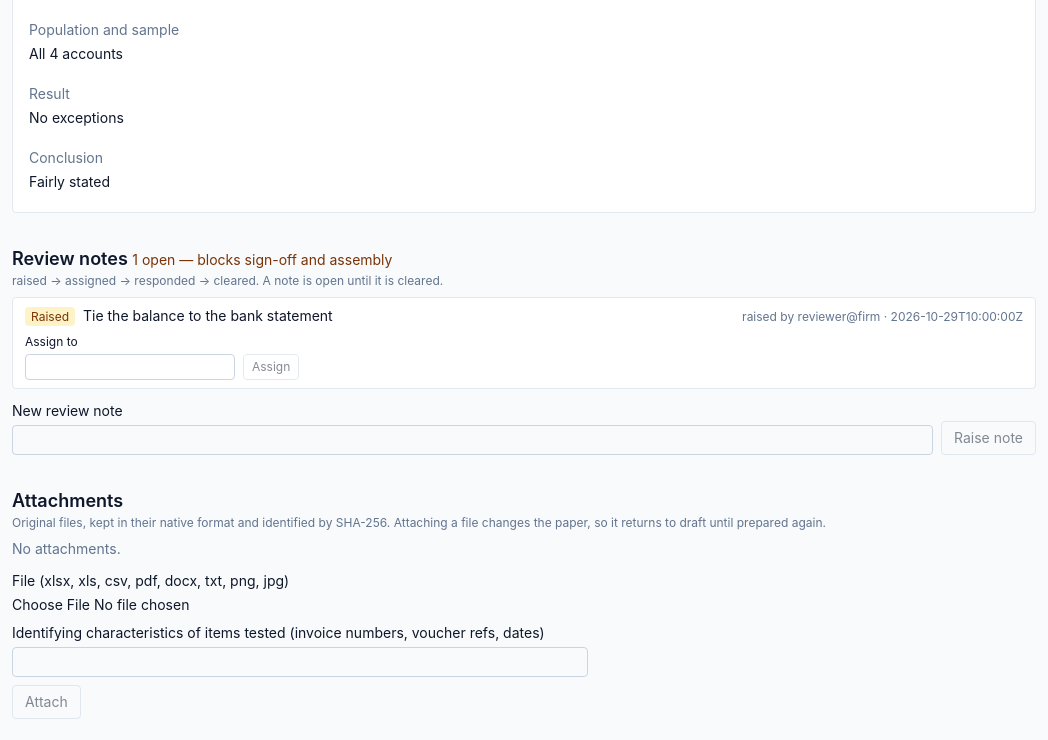
Scenario: each note offers only its next step: assign, respond, clear
(page scrolled)
Type "preparer@firm" into the field labelled "Assign to" at (130, 367), box top-left (25, 354), bottom-right (235, 380)
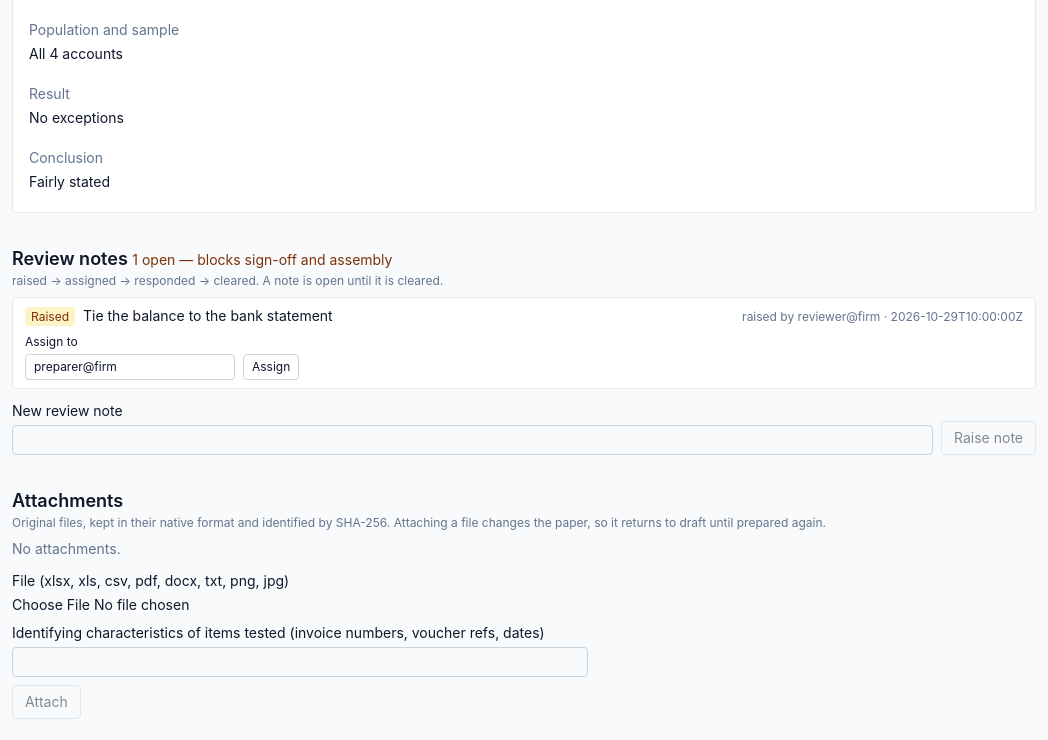
Click the button "Assign" at (271, 367), box top-left (243, 354), bottom-right (299, 380)
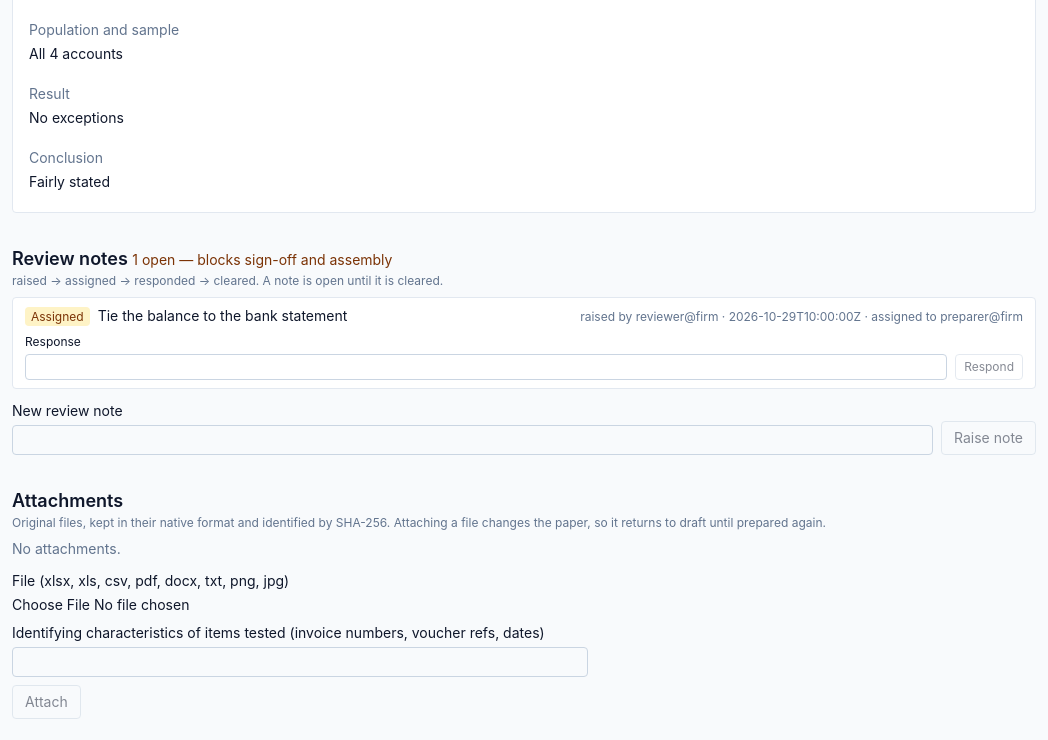
Check: the text "assigned to preparer@firm" is shown, box top-left (861, 309), bottom-right (1023, 324)
Type "Reconciled" into the field labelled "Response" at (486, 367), box top-left (25, 354), bottom-right (947, 380)
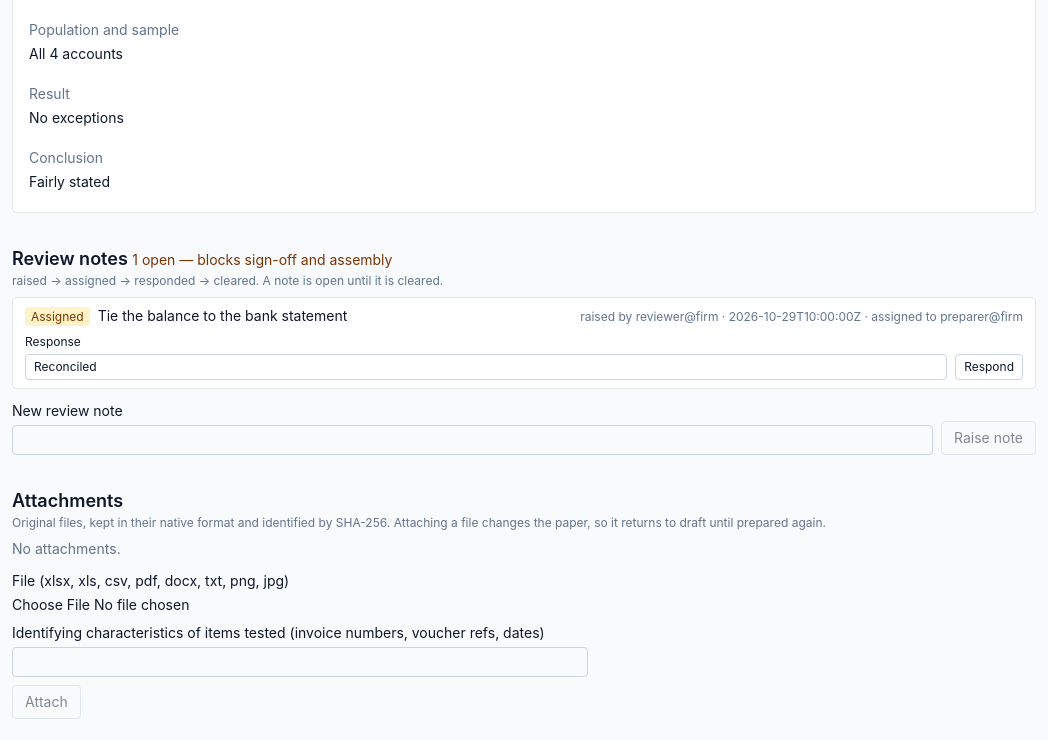
Click the button "Respond" at (989, 367), box top-left (955, 354), bottom-right (1023, 380)
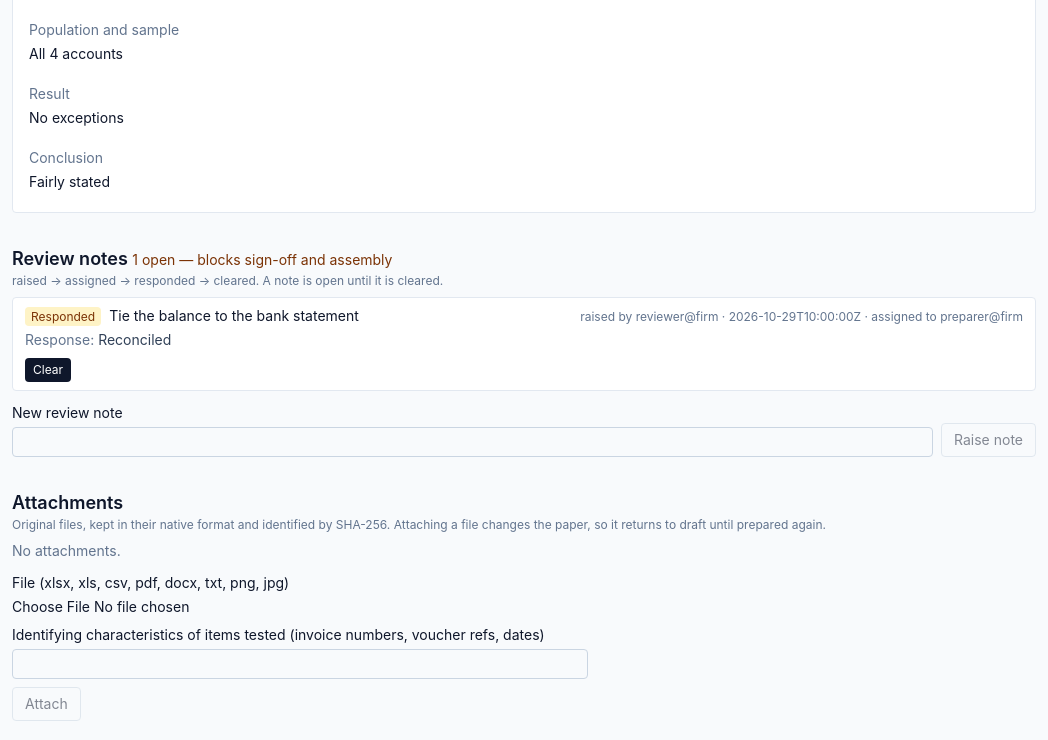
Check: the text "Response: Reconciled" is shown, box top-left (25, 331), bottom-right (171, 348)
Click the button "Clear" at (48, 370), box top-left (25, 358), bottom-right (71, 382)
(page scrolled)
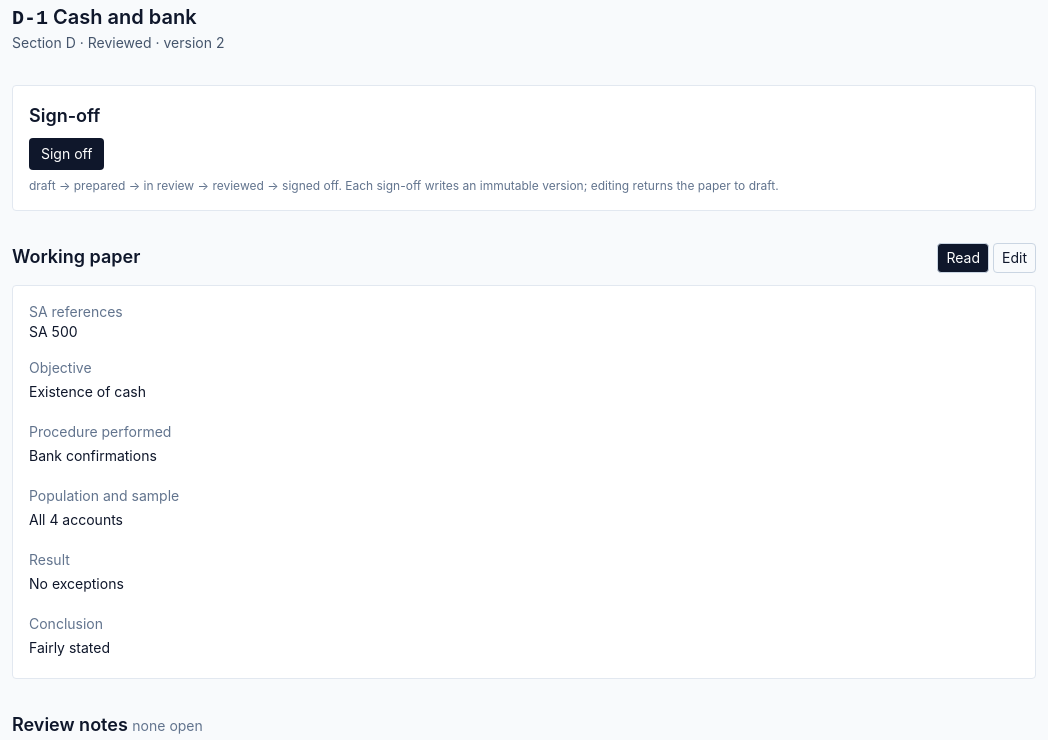
Check: the text with test id "open-notes" reads "none open", box top-left (132, 717), bottom-right (203, 734)
Check: the button "Sign off" is enabled, box top-left (29, 138), bottom-right (104, 170)
